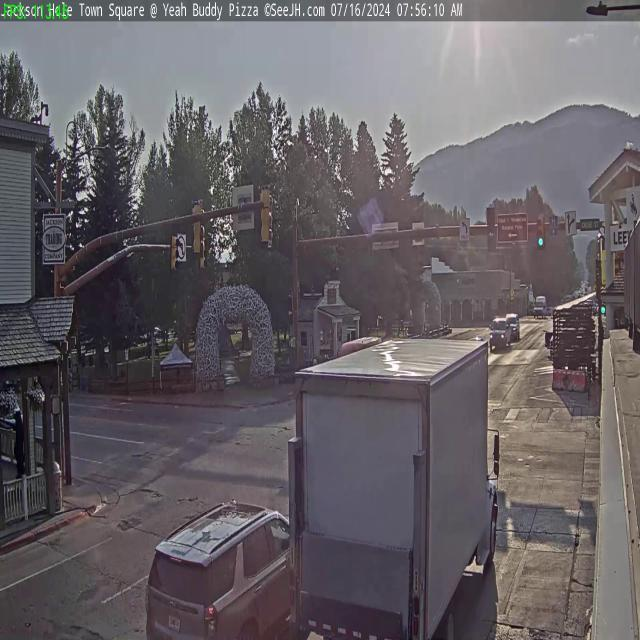suv: (144, 494, 304, 640)
traffic light: (190, 199, 203, 256), (260, 184, 272, 243), (486, 208, 496, 254), (536, 214, 546, 248), (171, 235, 180, 272)
truck: (290, 330, 500, 640)
